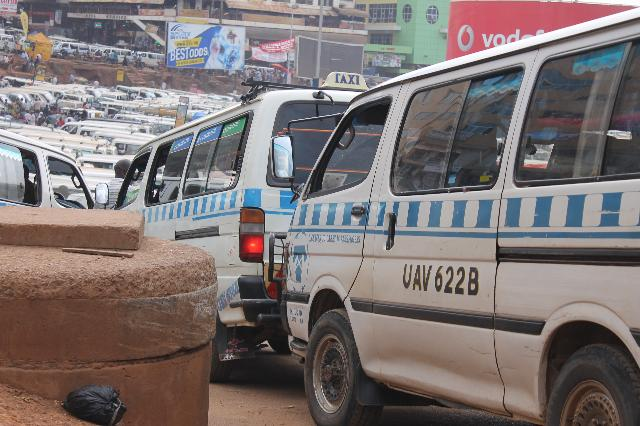van: (272, 6, 639, 426), (136, 132, 288, 242)
